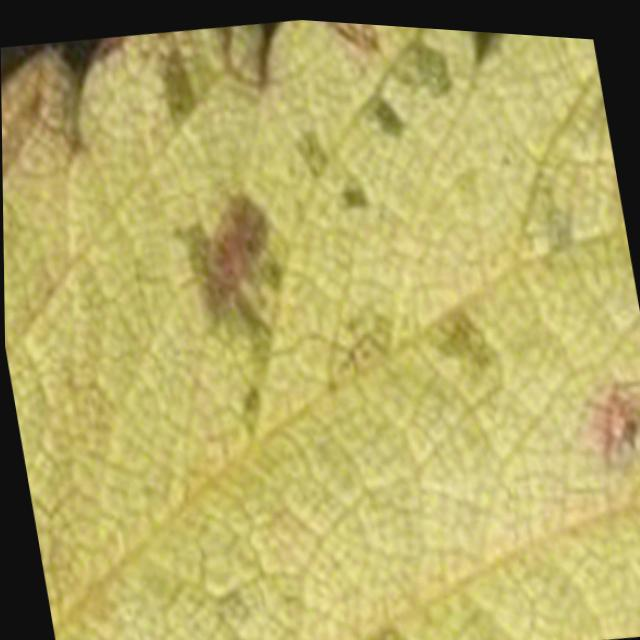Angular Leafspot: (1, 15, 640, 640)
